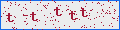t: (6, 13, 15, 22), (69, 11, 77, 21), (80, 8, 88, 17), (54, 7, 62, 16), (30, 12, 38, 21)
